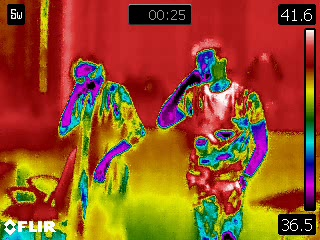human: (157, 38, 267, 240), (54, 55, 146, 240)
